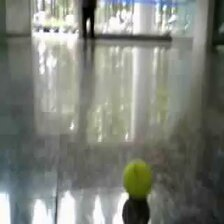tennis: (123, 159, 153, 197)
